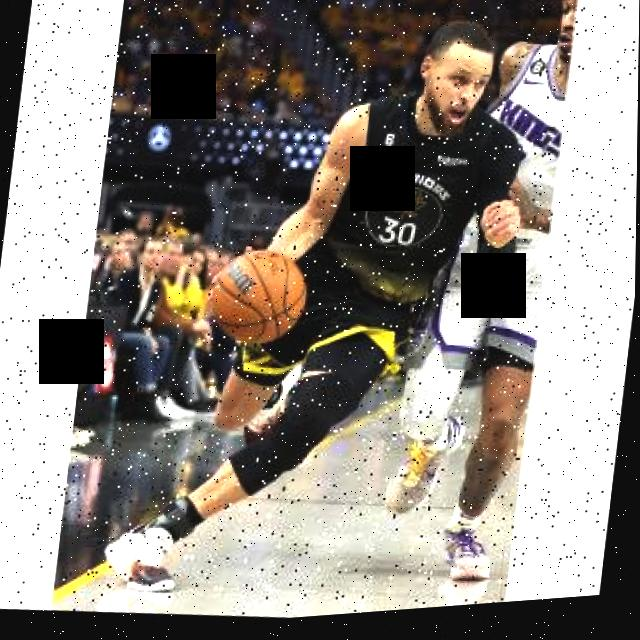shoe: (385, 413, 466, 526), (99, 515, 183, 600), (438, 520, 497, 592)
